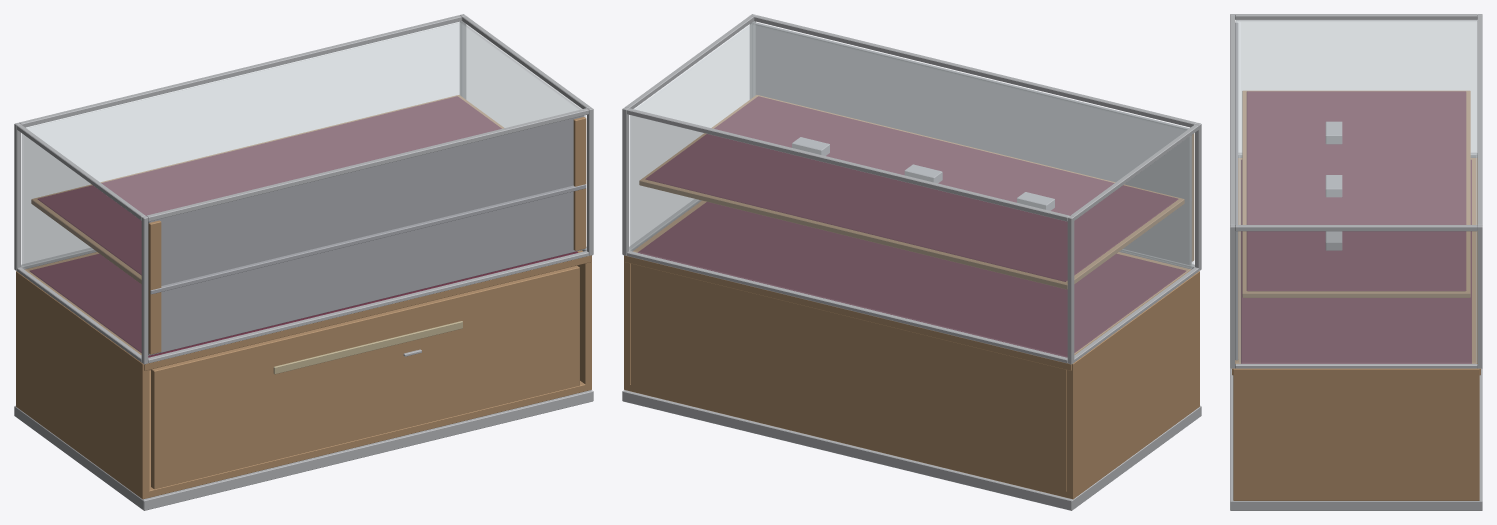
Rendered from prop_display_case_slab_01.glb.
3 views of the same model, side by side, from view 1: azimuth 30°, elevation 25°; view 2: azimuth 150°, elevation 25°; view 3: azimuth 270°, elevation 25° (orthographic). The views are drawn at different scales.
Parts seen in each view (by area): view 1: prop_display_case_slab_01; view 2: prop_display_case_slab_01; view 3: prop_display_case_slab_01.
Part boxes in pixels (x1,y1,x2,y2): prop_display_case_slab_01: (14, 14, 593, 510); prop_display_case_slab_01: (622, 14, 1201, 510); prop_display_case_slab_01: (1230, 14, 1482, 510).
Size of the model in its own units: 1.8 by 1.12 by 0.9.
